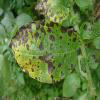Potato leaf early blight: (7, 20, 81, 84), (35, 0, 71, 26), (81, 17, 99, 39), (81, 52, 98, 72)
